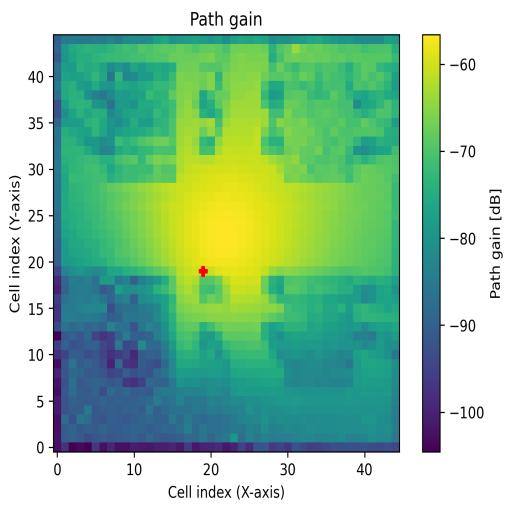Concrete: (284, 63, 354, 182)
Glass: (100, 62, 176, 183)
Metal: (284, 277, 354, 386)
Wood: (91, 275, 169, 387)
